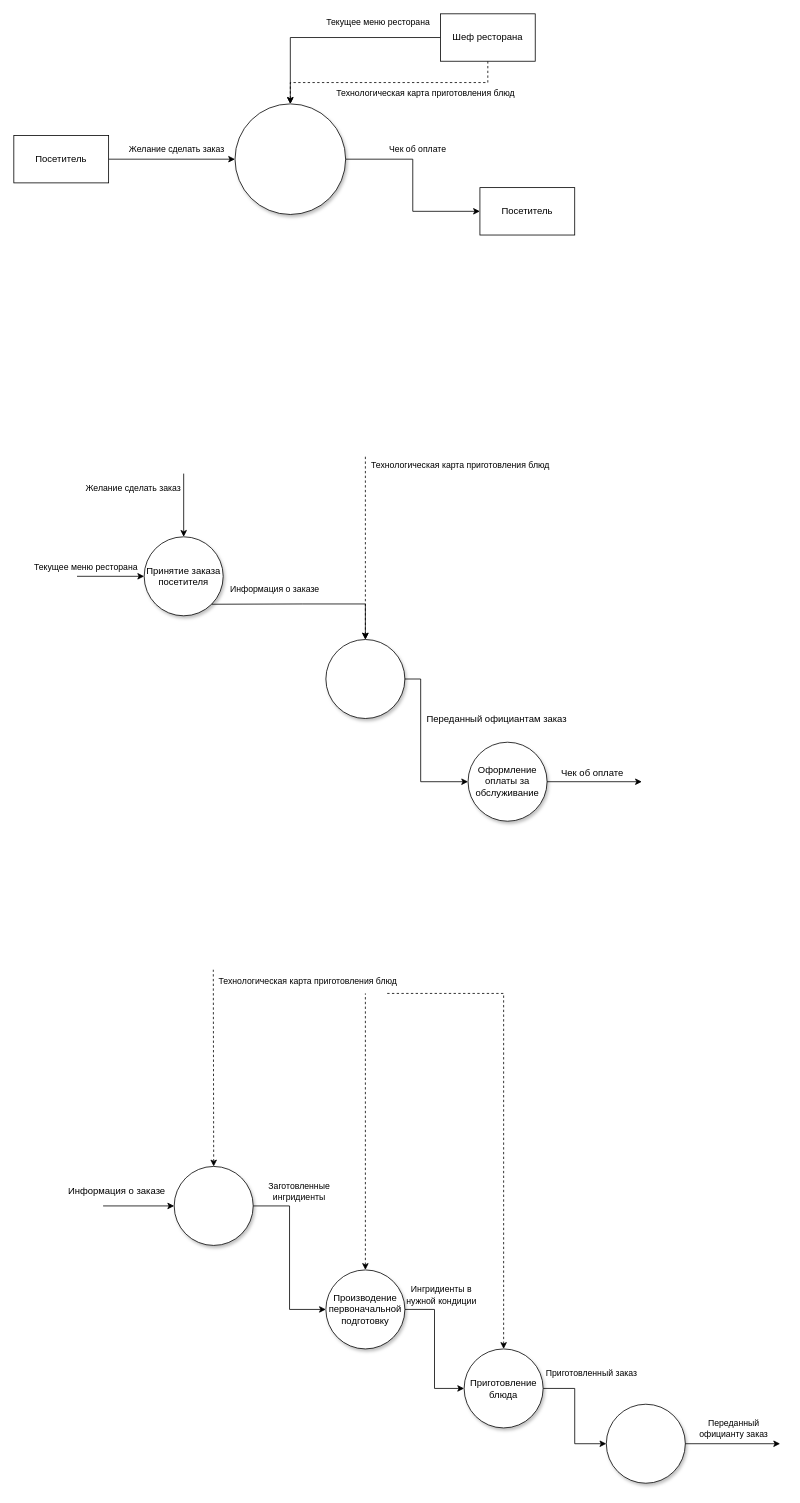
This 800x1503 diagram has some shape labels left out. Here are the shapes that lost their labels. From the top down, the centre of each, then its label:
At [290,160]: "Обслуживание посетителя в ресторане".
At [366,680]: "Приготовление заказа".
At [214,1206]: "Получение необходимые ингридиенты".
At [646,1444]: "Передача заказа официанту".
